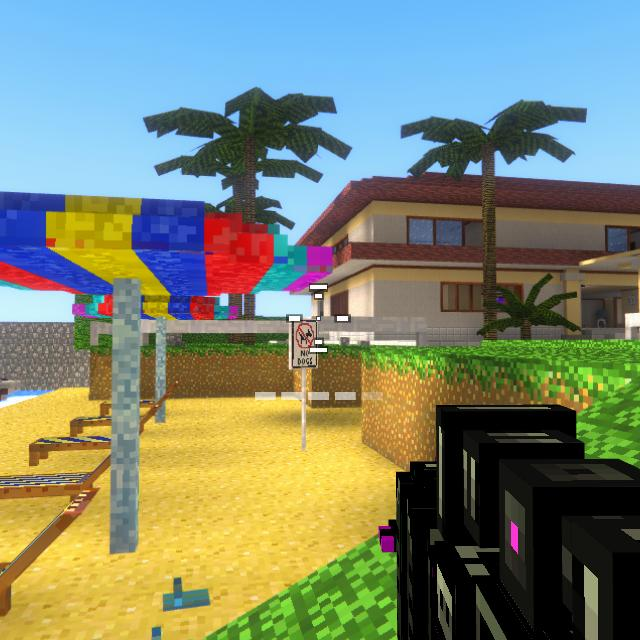Enemy: (300, 328, 313, 349)
